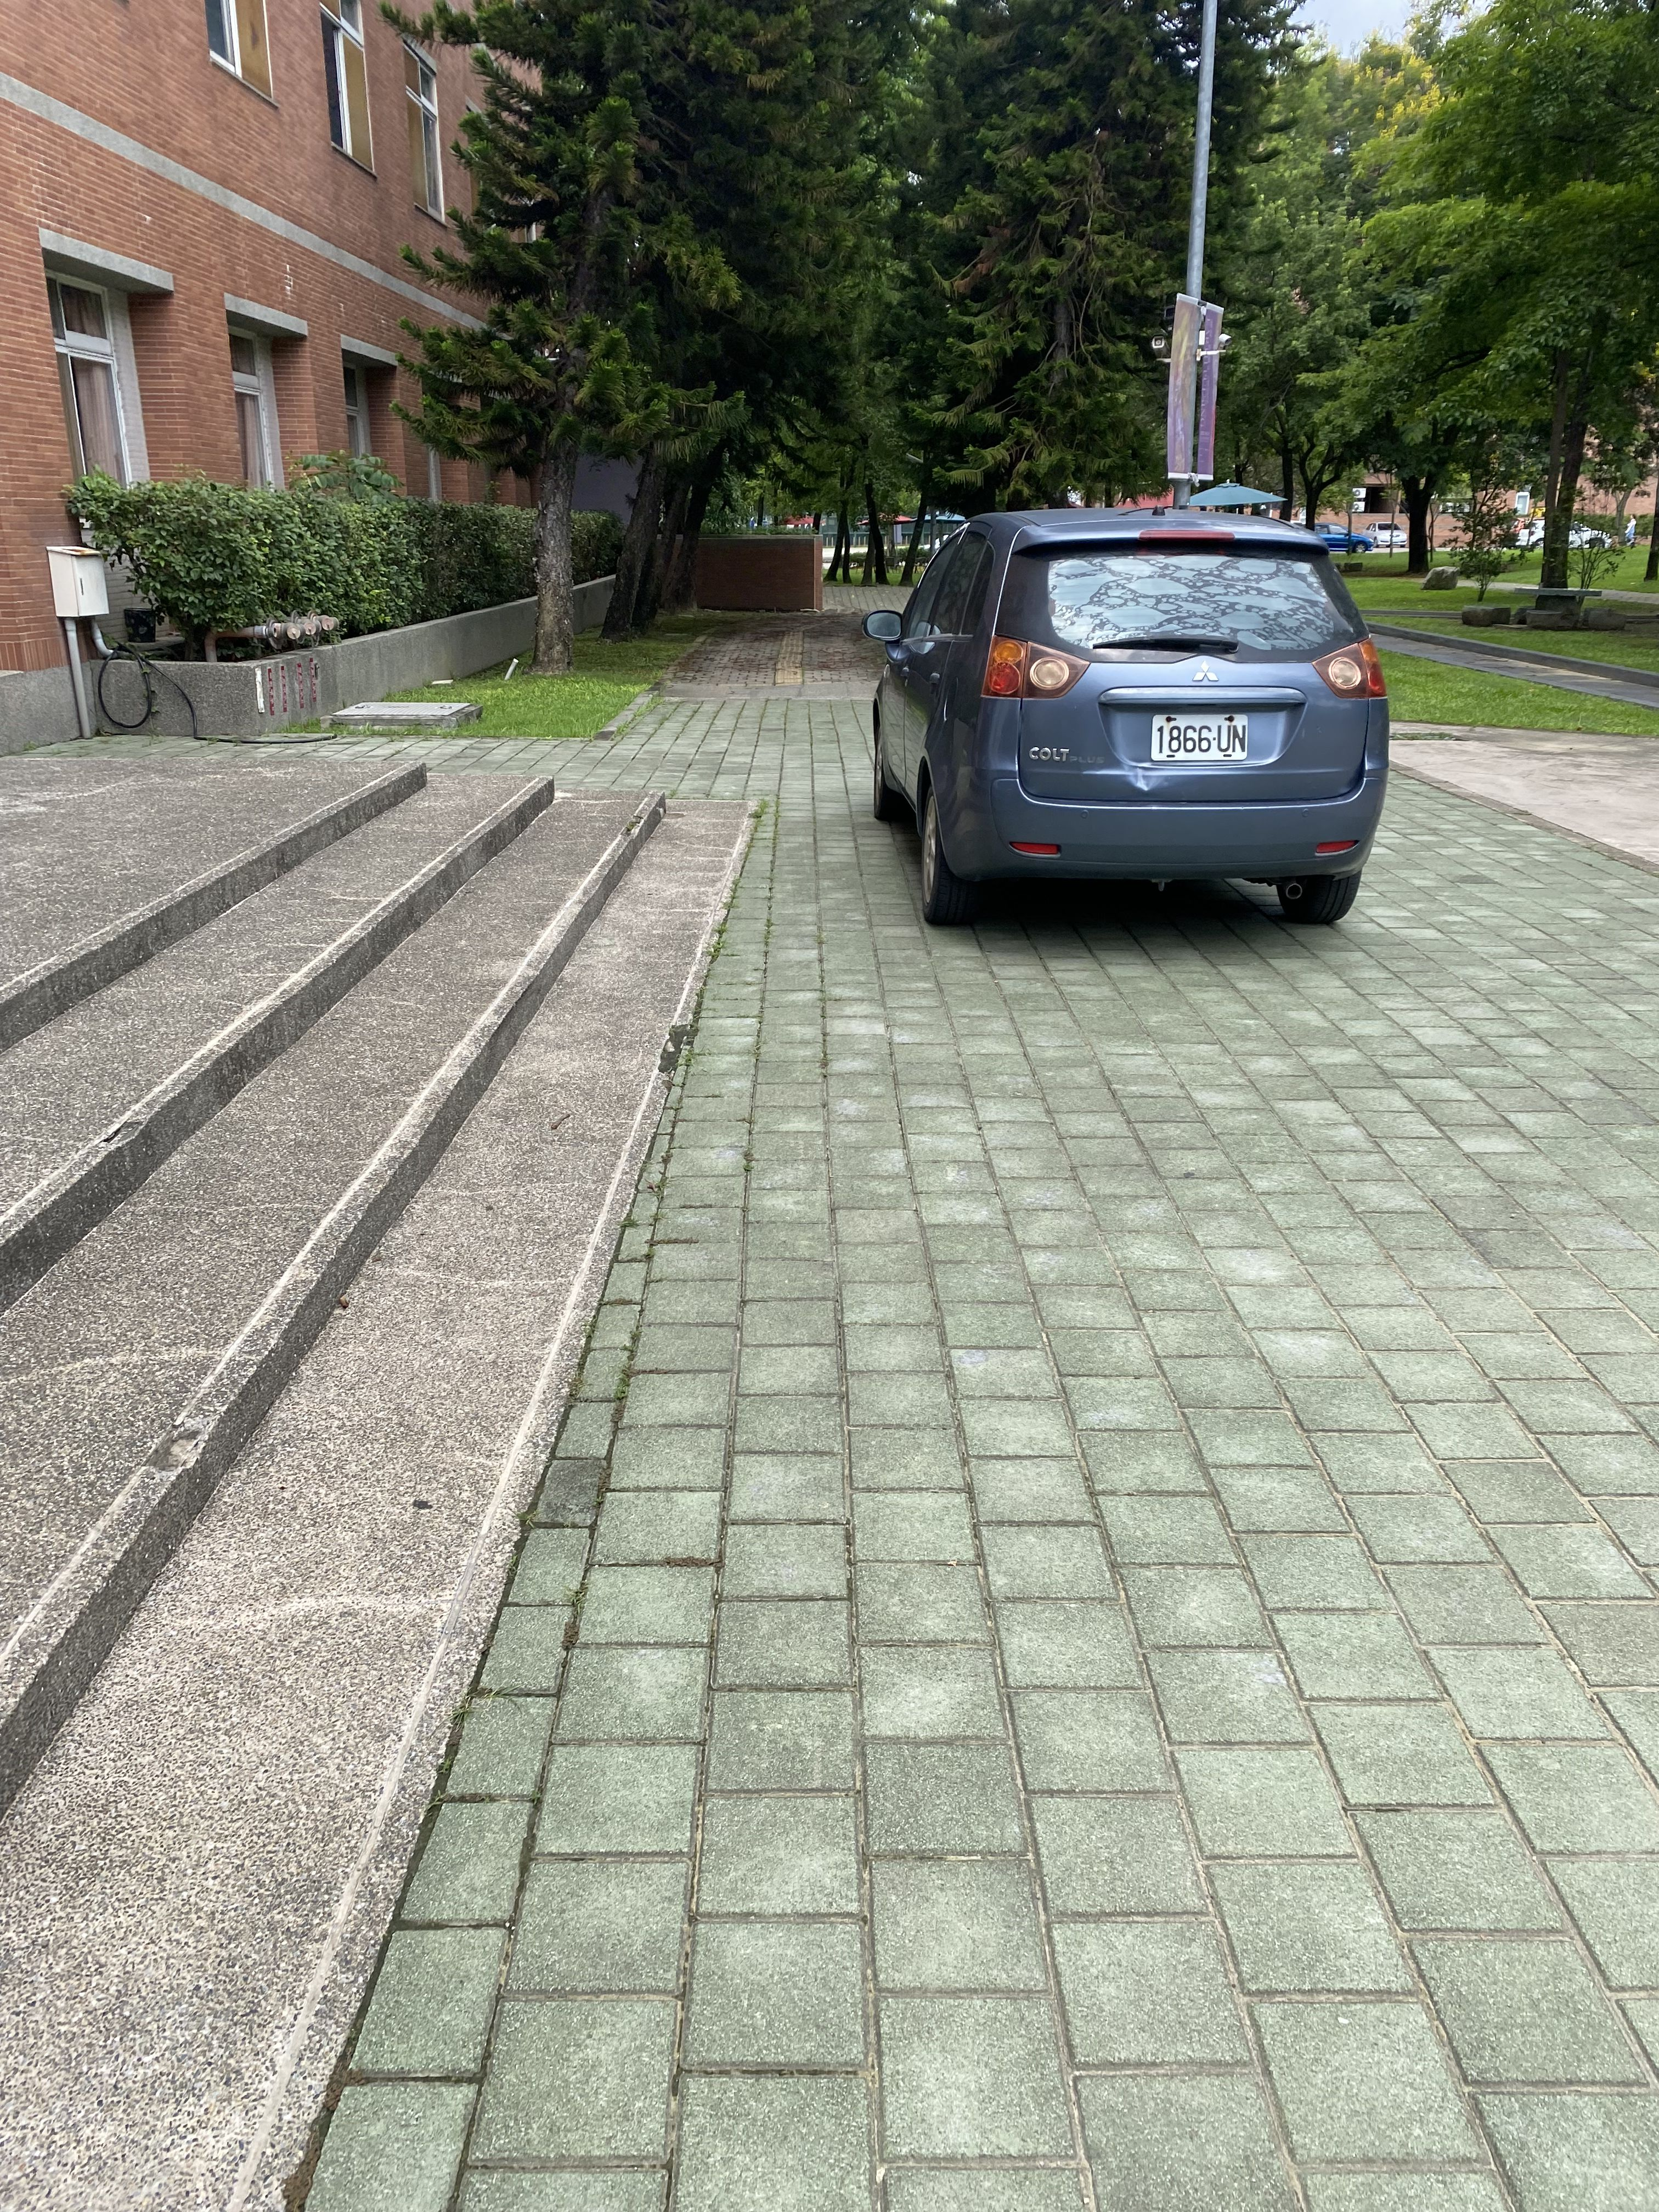sidewalk: (373, 617, 1659, 2212)
